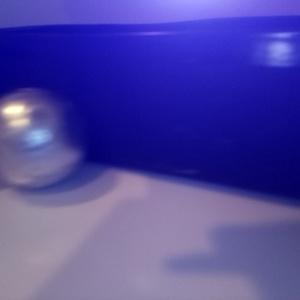alive_ball: (1, 86, 86, 189)
